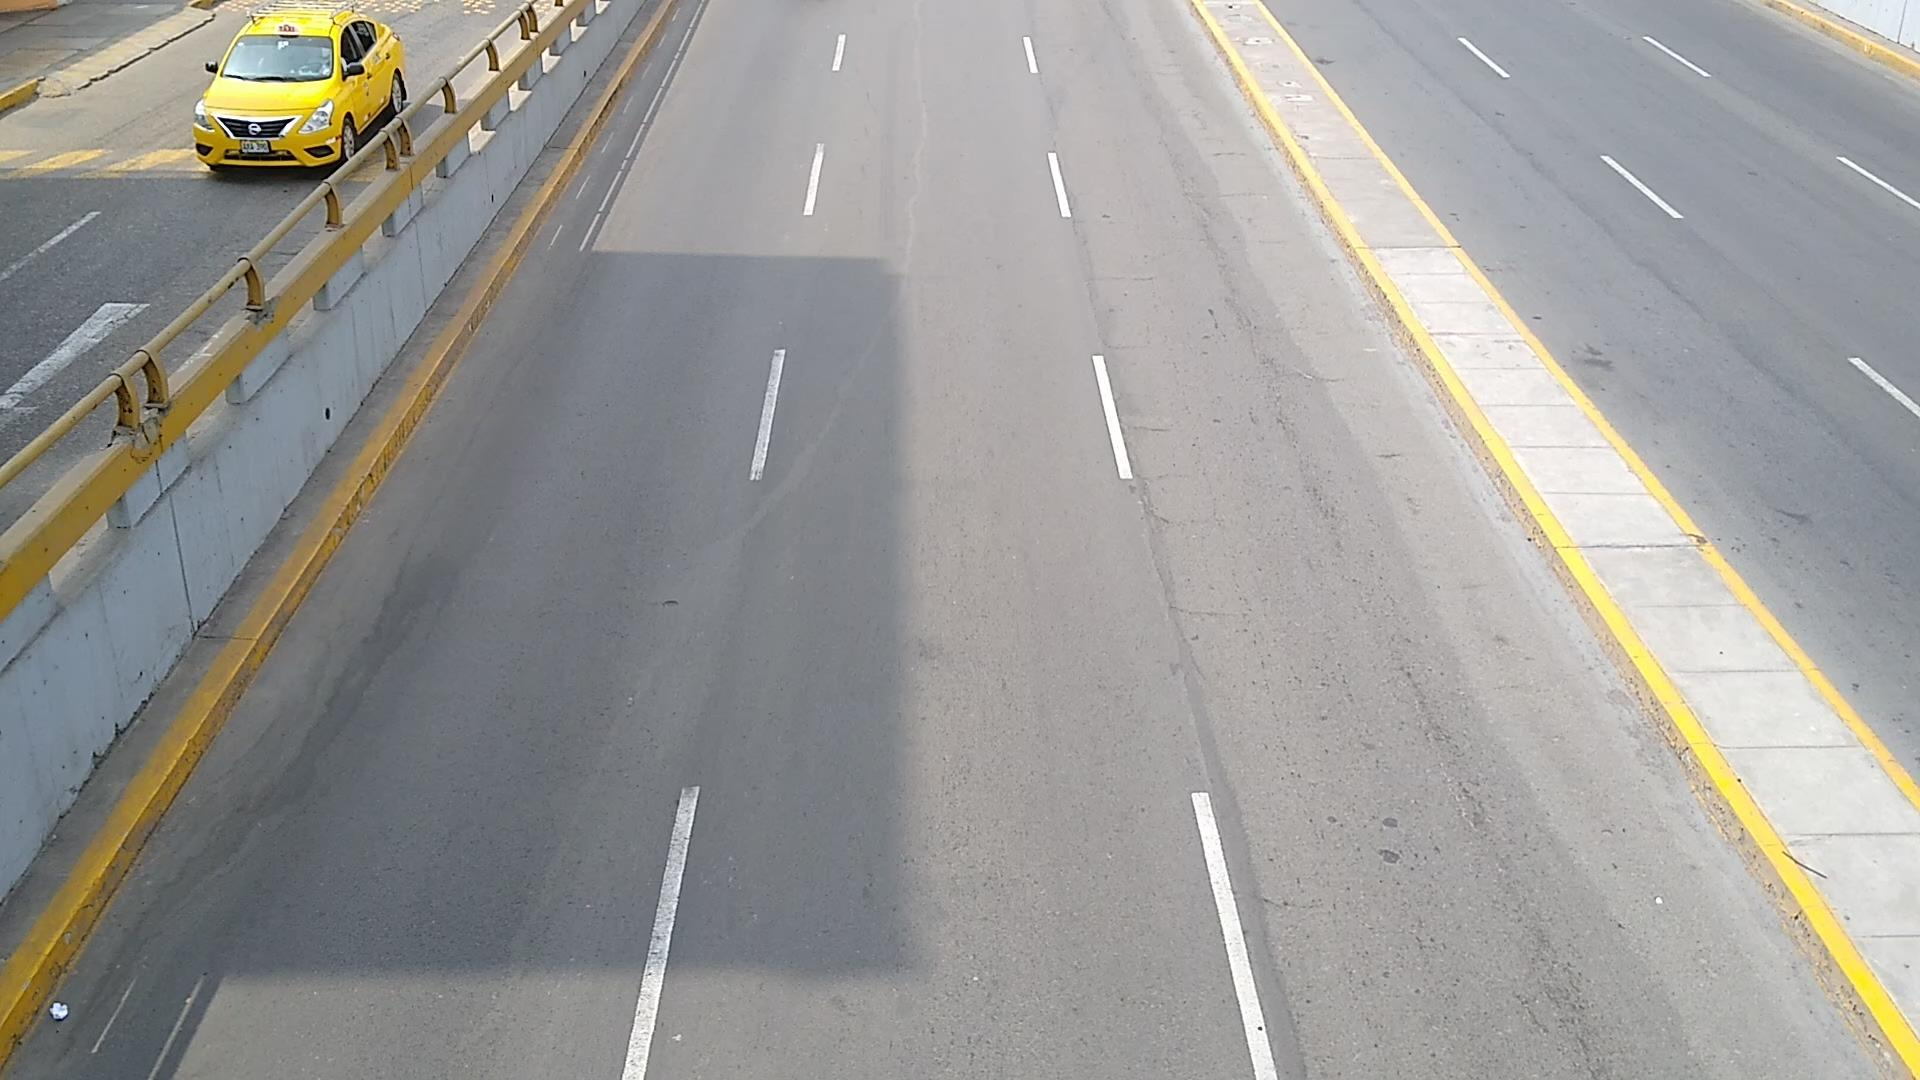car: (195, 12, 409, 169)
